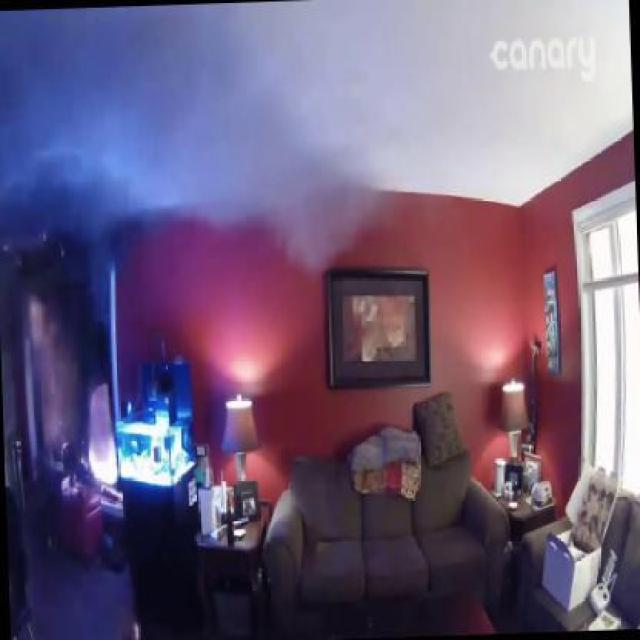fire: (0, 21, 409, 281)
